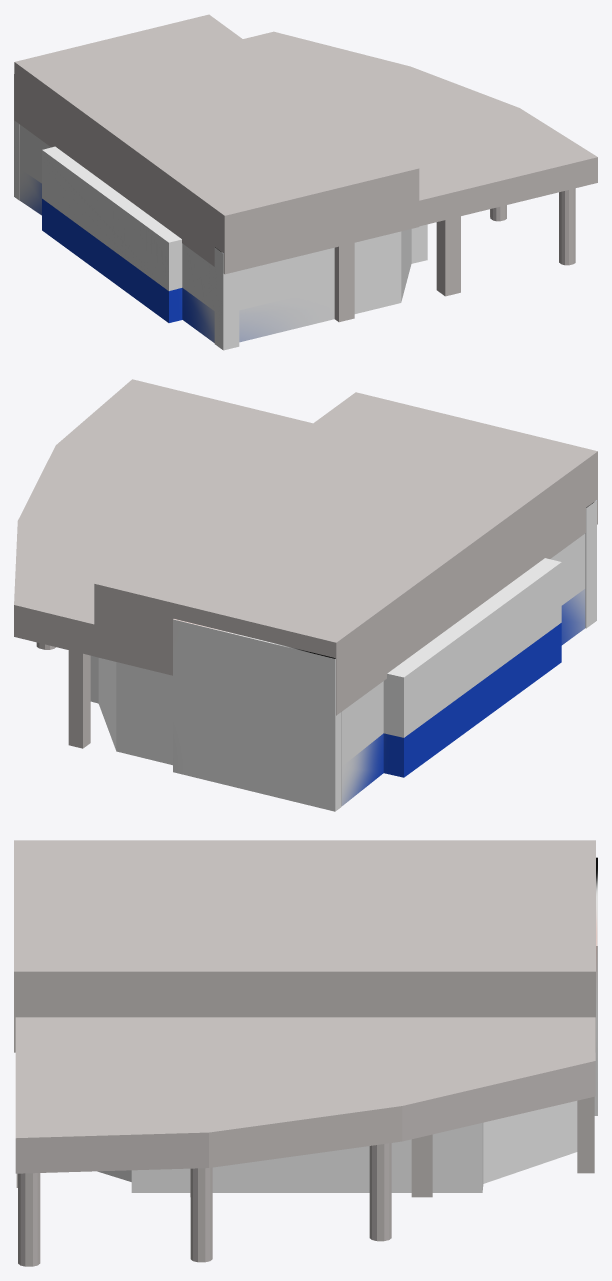
File: tamoku.glb
3 views of the same model, one above another, from view 1: azimuth 30°, elevation 25°; view 2: azimuth 150°, elevation 25°; view 3: azimuth 270°, elevation 25° (orthographic). The views are drawn at different scales.
Parts seen in each view (by area): view 1: 多目的ホール・四角屋根, 多目的ホール, 多目的ホール・斜め屋根, 多目的ホール・四角柱.002, 多目的ホール・四角柱, 多目的ホール・四角柱.001, 多目的ホール・円柱, 多目的ホールと図書室の間の壁; view 2: 多目的ホール・四角屋根, 多目的ホール・斜め屋根, 多目的ホール, 多目的ホールと図書室の間の壁, 多目的ホール・四角柱_細め, 多目的ホール・四角柱.002; view 3: 多目的ホール・四角屋根, 多目的ホール・斜め屋根, 多目的ホール, 多目的ホール・円柱, 多目的ホール・中心の柱二本, 多目的ホール・四角柱_細め, 多目的ホールと図書室の間の壁.
Part boxes in pixels (bbox=[...]): 多目的ホール・四角屋根: bbox=[14, 14, 419, 274]; 多目的ホール: bbox=[19, 124, 427, 342]; 多目的ホール・斜め屋根: bbox=[243, 31, 597, 226]; 多目的ホール・四角柱.002: bbox=[214, 247, 239, 350]; 多目的ホール・四角柱: bbox=[436, 216, 460, 296]; 多目的ホール・四角柱.001: bbox=[334, 243, 354, 322]; 多目的ホール・円柱: bbox=[490, 188, 575, 265]; 多目的ホールと図書室の間の壁: bbox=[14, 74, 19, 200]; 多目的ホール・四角屋根: bbox=[94, 392, 597, 715]; 多目的ホール・斜め屋根: bbox=[14, 379, 312, 656]; 多目的ホール: bbox=[90, 534, 585, 805]; 多目的ホールと図書室の間の壁: bbox=[173, 619, 341, 811]; 多目的ホール・四角柱_細め: bbox=[68, 650, 90, 748]; 多目的ホール・四角柱.002: bbox=[585, 500, 596, 628]; 多目的ホール・四角屋根: bbox=[14, 840, 595, 1052]; 多目的ホール・斜め屋根: bbox=[15, 1017, 595, 1173]; 多目的ホール: bbox=[97, 1101, 577, 1192]; 多目的ホール・円柱: bbox=[18, 1143, 391, 1266]; 多目的ホール・中心の柱二本: bbox=[190, 1134, 432, 1197]; 多目的ホール・四角柱_細め: bbox=[577, 1096, 594, 1173]; 多目的ホールと図書室の間の壁: bbox=[594, 857, 597, 1115].
Size of the model in its own units: 6.46 by 2.17 by 6.1.
1 material, 1 textured.
